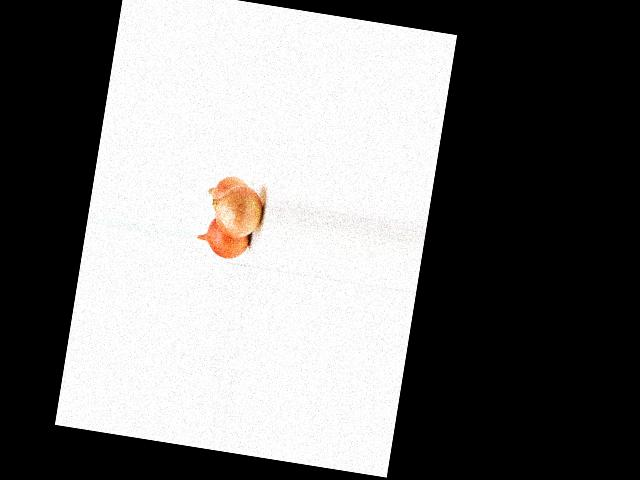onion: (197, 214, 255, 262)
